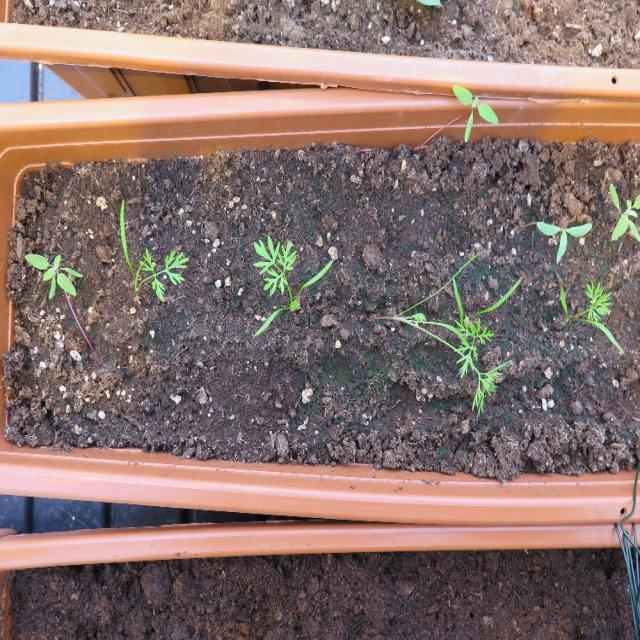crop: (252, 235, 334, 336), (119, 196, 191, 302), (557, 276, 625, 355)
weed: (451, 83, 499, 143), (24, 252, 84, 298), (535, 220, 593, 266)
